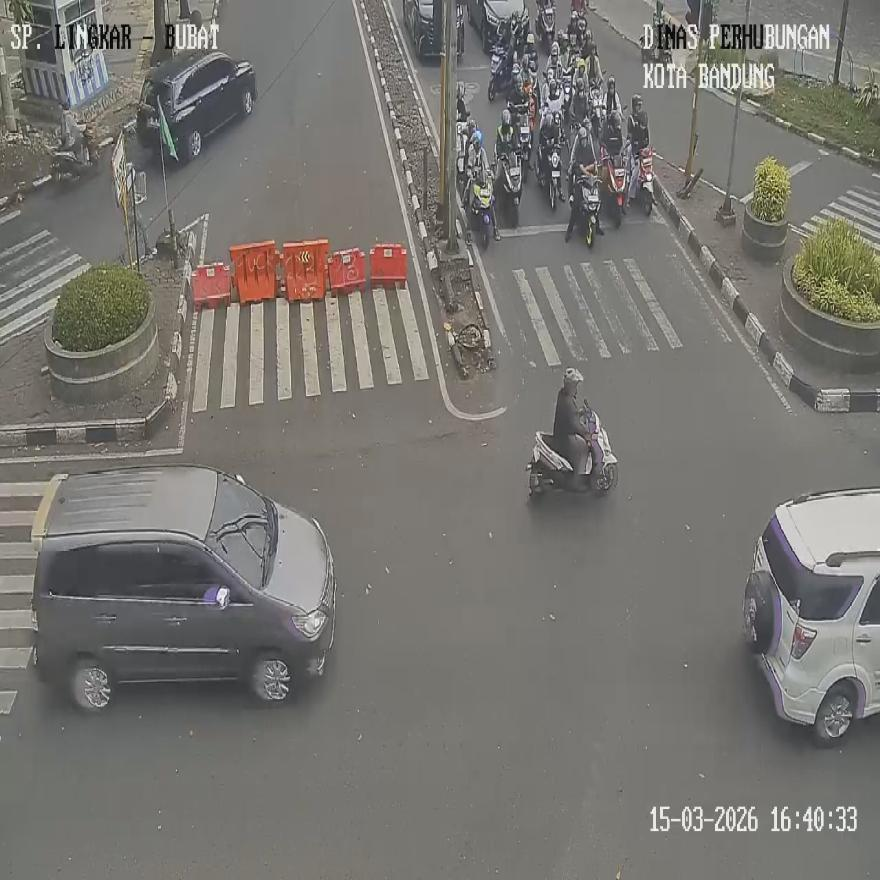Motor: (28, 464, 337, 713), (744, 486, 879, 746), (135, 51, 257, 163), (465, 0, 525, 53), (402, 0, 441, 59), (459, 2, 463, 38)
Truk: (527, 406, 618, 501), (51, 129, 100, 182), (640, 0, 673, 64), (602, 148, 626, 228), (575, 174, 600, 249), (501, 152, 523, 228), (471, 179, 494, 249), (488, 46, 515, 102), (540, 145, 562, 210), (636, 146, 654, 215), (524, 71, 539, 145), (536, 3, 556, 52), (517, 115, 532, 179), (640, 36, 673, 64), (589, 84, 605, 141), (512, 7, 530, 57), (457, 120, 468, 196), (527, 81, 538, 156), (562, 65, 573, 124), (575, 14, 587, 53), (457, 3, 464, 61), (572, 0, 589, 14)
